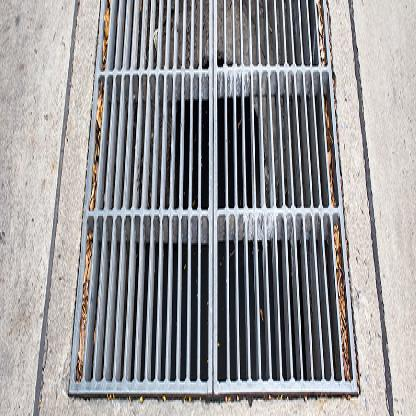open drainage-not overflowing-: (74, 0, 358, 402)
